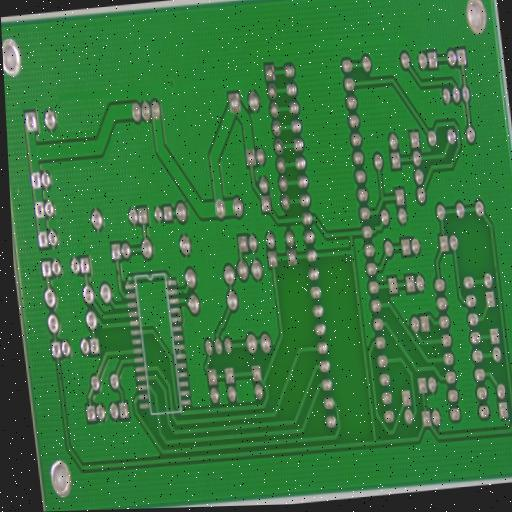mouse_bite: (115, 266, 122, 279), (56, 373, 63, 383), (179, 287, 185, 297)
